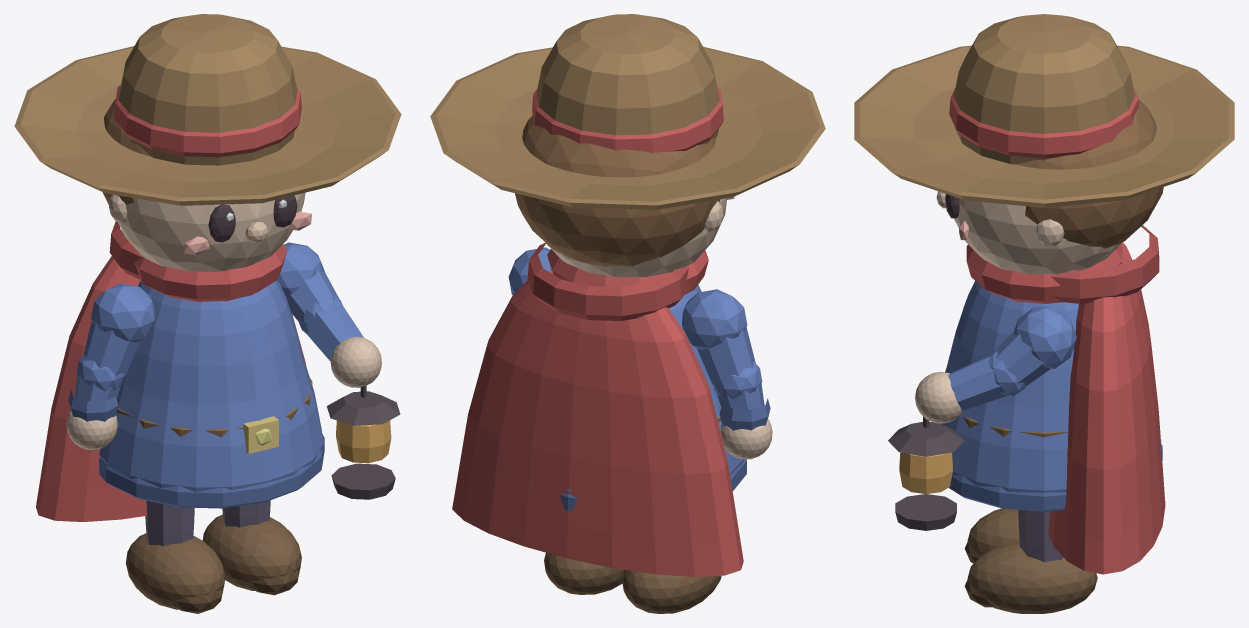
Rendered from hero_warden.glb.
3 renders of one model, left to right at view 1: azimuth 30°, elevation 25°; view 2: azimuth 150°, elevation 25°; view 3: azimuth 270°, elevation 25°, orthographic. The views are drawn at different scales.
Visible parts, largest first — view 1: hero_warden; view 2: hero_warden; view 3: hero_warden.
Boxes of the visible parts, x1,y1,x2,y2 form: hero_warden: (14, 14, 401, 613); hero_warden: (430, 14, 825, 613); hero_warden: (854, 14, 1234, 613).
Bounding box in the file's own units: 1.32 × 2.07 × 1.29.
